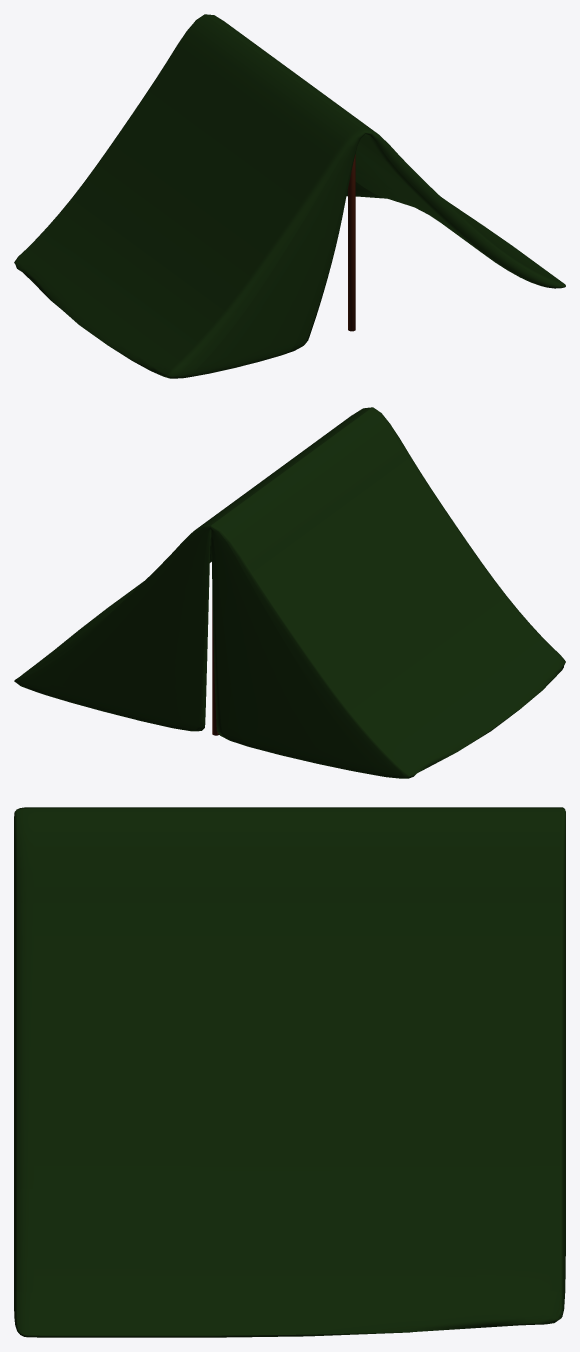
File: MSH_TenteV5_high.fbx
The picture shows the model from 3 angles, top to bottom: view 1: azimuth 30°, elevation 25°; view 2: azimuth 150°, elevation 25°; view 3: azimuth 270°, elevation 25°; orthographic projection. The views are drawn at different scales.
Visible parts, largest first — view 1: Tente_high; view 2: Tente_high; view 3: Tente_high.
Boxes of the visible parts, left/top/right/bottom form: Tente_high: left=14, top=14, right=565, bottom=378; Tente_high: left=14, top=407, right=565, bottom=778; Tente_high: left=14, top=807, right=565, bottom=1337.
Size of the model in its own units: 439 by 217 by 301.
